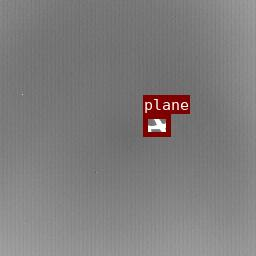plane: (143, 114, 170, 136)
